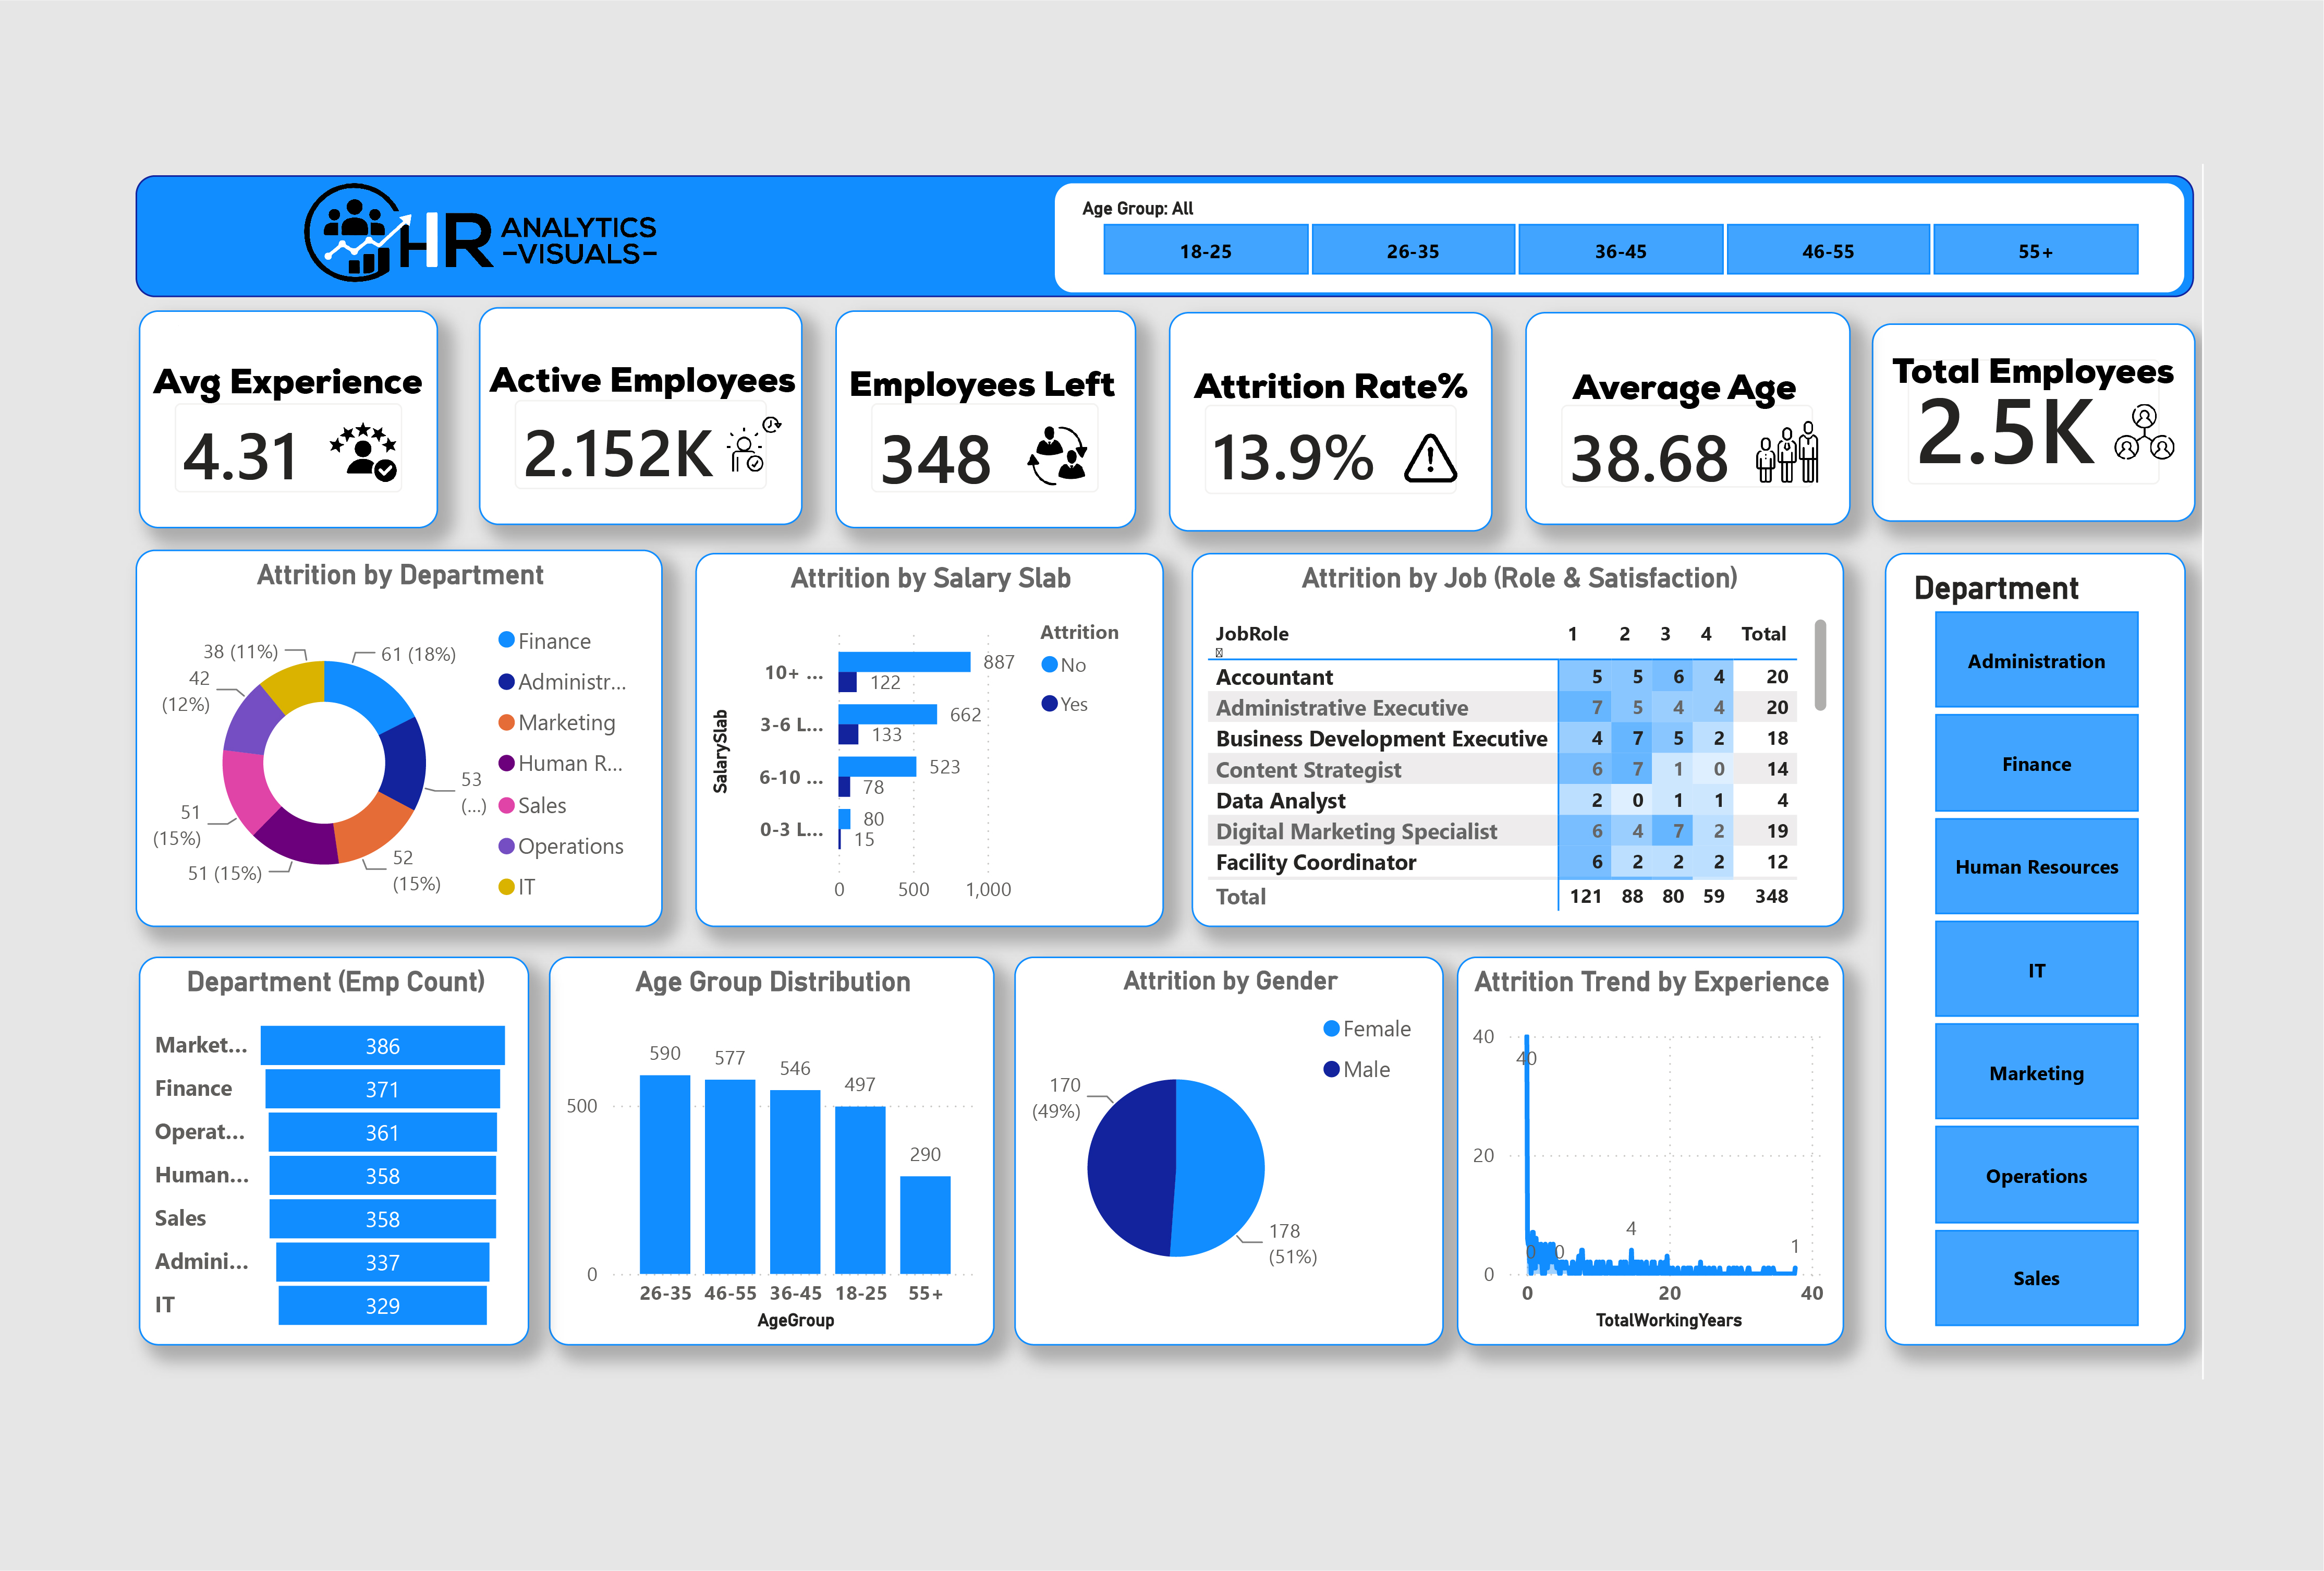

Layout of this report page (visuals, bound fields, positions):
{"tool":"powerbi","page":{"name":"Page 1","canvas":[1280,750],"ordinal":0},"visuals":[{"type":"textbox","box":[10.1,7.3,1264.9,75],"z":0},{"type":"cardVisual","fields":{"Data":["CountNonNull(HR_Employee_Master.EmployeeCount)"]},"box":[1076.5,97.9,199.4,121.6],"z":1000},{"type":"cardVisual","title":"Average Age","fields":{"Data":["Avg(HR_Employee_Master.Age)"]},"box":[864.3,91.4,199.3,130.8],"z":2000},{"type":"cardVisual","title":"Attrition Rate %","fields":{"Data":["HR_Employee_Master.Attrition rate %"]},"box":[644.8,91.4,199.3,134.3],"z":3000},{"type":"cardVisual","title":"Employees Left","fields":{"Data":["Sum(HR_Employee_Master.AttritionCount)"]},"box":[440.2,89.6,184.4,134.3],"z":4000},{"type":"cardVisual","title":"Active Employees","fields":{"Data":["CountNonNull(HR_Employee_Master.EmployeeCount)"]},"box":[220.7,87.9,199.3,134.3],"z":5000},{"type":"cardVisual","title":"Avg Experience","fields":{"Data":["Avg(HR_Employee_Master.YearsAtCompany)"]},"box":[11.7,89.6,184.4,134.3],"z":6000},{"type":"image","box":[1220.1,146.3,48.5,36.6],"z":7000},{"type":"image","box":[364.9,153.7,49.4,36.6],"z":8000},{"type":"image","box":[120.7,155.5,58.5,43.9],"z":9000},{"type":"image","box":[997,158.2,55.8,37.5],"z":10000},{"type":"image","box":[549.7,161,52.1,36.6],"z":11000},{"type":"image","box":[777.4,160.1,57.6,43.9],"z":12000},{"type":"donutChart","title":"Attrition by Department","fields":{"Category":["HR_Employee_Master.Department"],"Y":["Sum(HR_Employee_Master.AttritionCount)"]},"box":[9.7,236.9,324,231.8],"z":13000},{"type":"clusteredBarChart","title":"Attrition by Salary Slab","fields":{"Category":["HR_Employee_Master.SalarySlab"],"Y":["CountNonNull(HR_Employee_Master.EmployeeCode)"],"Series":["HR_Employee_Master.Attrition"]},"box":[353.9,238.6,288,230],"z":14000},{"type":"pivotTable","title":"Attrition by Job (Role & Satisfaction)","fields":{"Rows":["HR_Employee_Master.JobRole"],"Values":["Sum(HR_Employee_Master.AttritionCount)"],"Columns":["HR_Employee_Master.JobSatisfaction"]},"box":[659.5,238.6,400.4,230],"z":15000},{"type":"columnChart","title":"Age Group Distribution","fields":{"Category":["HR_Employee_Master.AgeGroup"],"Y":["Sum(HR_Employee_Master.EmployeeCount)"]},"box":[263.8,486.6,274,239.7],"z":16000},{"type":"pieChart","title":"Attrition by Gender","fields":{"Category":["HR_Employee_Master.Gender"],"Y":["Sum(HR_Employee_Master.AttritionCount)"]},"box":[550,486.6,264.3,239.7],"z":17000},{"type":"areaChart","title":"Attrition Trend by Experience","fields":{"Category":["HR_Employee_Master.TotalWorkingYears"],"Y":["Sum(HR_Employee_Master.AttritionCount)"]},"box":[822.2,486.6,238,239.7],"z":18000},{"type":"funnel","title":"Department (Emp Count)","fields":{"Category":["HR_Employee_Master.Department"],"Y":["CountNonNull(HR_Employee_Master.EmployeeCode)"]},"box":[11.8,486.6,240.6,239.7],"z":19000},{"type":"slicer","fields":{"Values":["HR_Employee_Master.Department"]},"box":[1084.8,238.7,184.8,487.5],"z":20000},{"type":"slicer","fields":{"Values":["HR_Employee_Master.AgeGroup"]},"box":[574.4,11,695.1,68.6],"z":21000},{"type":"image","box":[102.4,8.2,239.6,69.5],"z":22000},{"type":"textbox","box":[1089.3,99.7,178.4,43],"z":23000}]}

Visuals, with their boxes on the page's 1280x750 design canvas (x1, y1, x2, y2). These are canvas units, not pixel positions in the 2324x1571 screenshot, which may show the page scaled, cropped or inside an application window:
textbox: 10:7:1275:82
cardVisual - CountNonNull(HR_Employee_Master.EmployeeCount): 1076:98:1276:220
"Average Age" cardVisual: 864:91:1064:222
"Attrition Rate %" cardVisual: 645:91:844:226
"Employees Left" cardVisual: 440:90:625:224
"Active Employees" cardVisual: 221:88:420:222
"Avg Experience" cardVisual: 12:90:196:224
image: 1220:146:1269:183
image: 365:154:414:190
image: 121:156:179:199
image: 997:158:1053:196
image: 550:161:602:198
image: 777:160:835:204
"Attrition by Department" donutChart: 10:237:334:469
"Attrition by Salary Slab" clusteredBarChart: 354:239:642:469
"Attrition by Job (Role & Satisfaction)" pivotTable: 660:239:1060:469
"Age Group Distribution" columnChart: 264:487:538:726
"Attrition by Gender" pieChart: 550:487:814:726
"Attrition Trend by Experience" areaChart: 822:487:1060:726
"Department (Emp Count)" funnel: 12:487:252:726
slicer - HR_Employee_Master.Department: 1085:239:1270:726
slicer - HR_Employee_Master.AgeGroup: 574:11:1270:80
image: 102:8:342:78
textbox: 1089:100:1268:143
